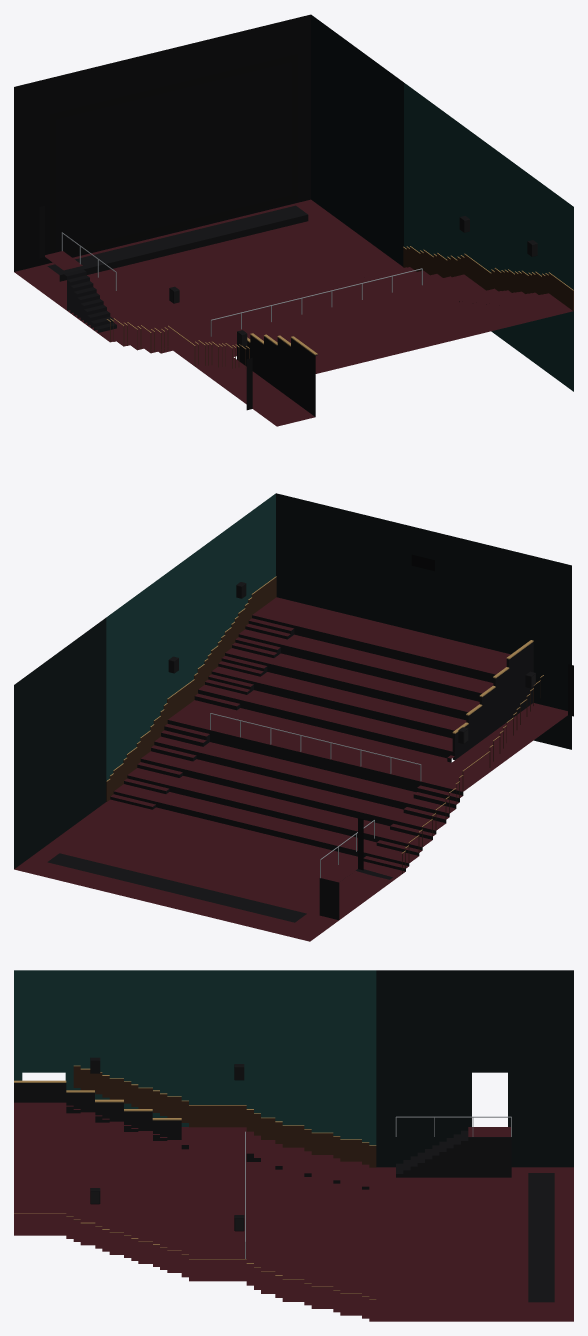
The model's file is hallIII.glb.
3 renders of one model, top to bottom at view 1: azimuth 30°, elevation 25°; view 2: azimuth 150°, elevation 25°; view 3: azimuth 270°, elevation 25°, orthographic. The views are drawn at different scales.
Visible parts, largest first — view 1: hallIII; view 2: hallIII; view 3: hallIII.
Boxes of the visible parts, <box> form: hallIII: <box>14,14,573,426</box>; hallIII: <box>14,493,573,941</box>; hallIII: <box>14,970,573,1321</box>.
Size of the model in its own units: 15.5 by 9.05 by 23.3.
